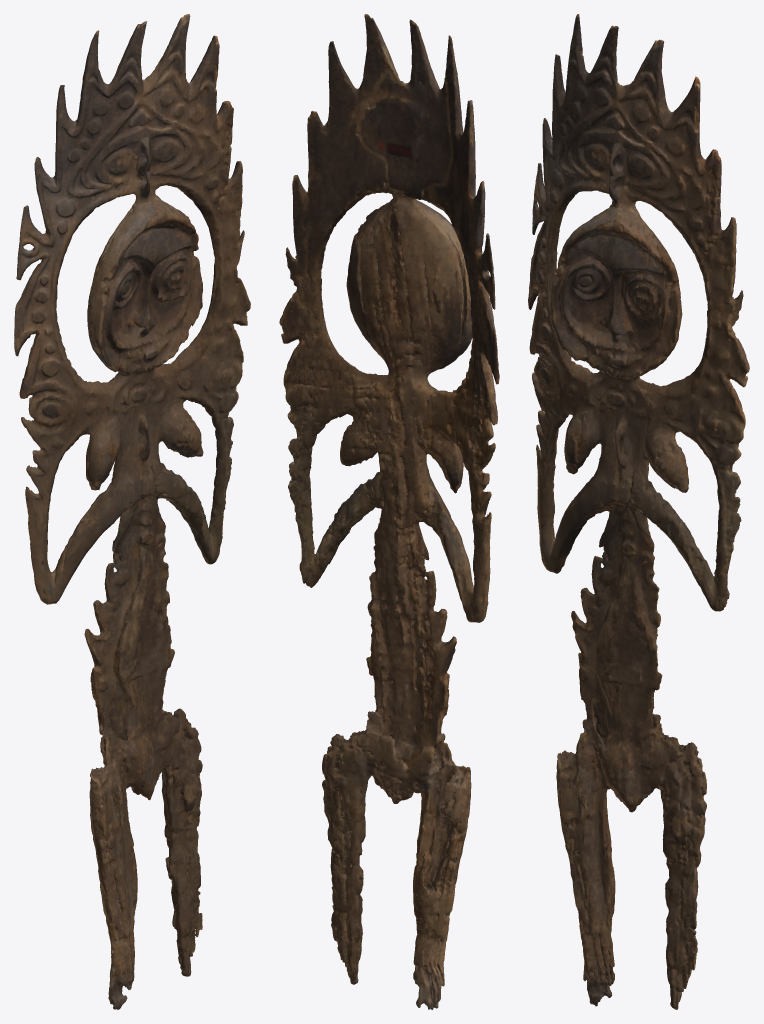
Rendered from female_figure_inyai_ewa.glb.
The picture shows the model from 3 angles, left to right: view 1: azimuth 30°, elevation 25°; view 2: azimuth 150°, elevation 25°; view 3: azimuth 330°, elevation 25°; orthographic projection.
Parts seen in each view (by area): view 1: ADVIMG_1978_412_857_FemaleFigure_n3d; view 2: ADVIMG_1978_412_857_FemaleFigure_n3d; view 3: ADVIMG_1978_412_857_FemaleFigure_n3d.
Part boxes in pixels (x1,y1,x2,y2): ADVIMG_1978_412_857_FemaleFigure_n3d: [14, 14, 250, 1009]; ADVIMG_1978_412_857_FemaleFigure_n3d: [279, 14, 499, 1009]; ADVIMG_1978_412_857_FemaleFigure_n3d: [528, 14, 749, 1009].
Bounding box in the file's own units: 0.4126 × 1.7 × 0.1157.
1 material, 1 textured.
